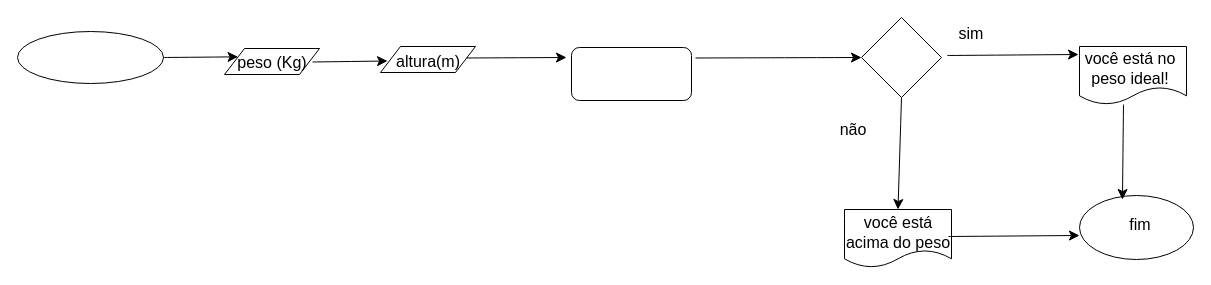
The diagram is 1211 pixels wide and 285 high, and some of its shapes have lost their labels. The centre of each missing label's shape, as x and y in pixels:
"IMC = peso/(altura*altura)" goes at point (631, 73).
"IMC≤ 25" goes at point (901, 57).
"inicio" goes at point (90, 57).
